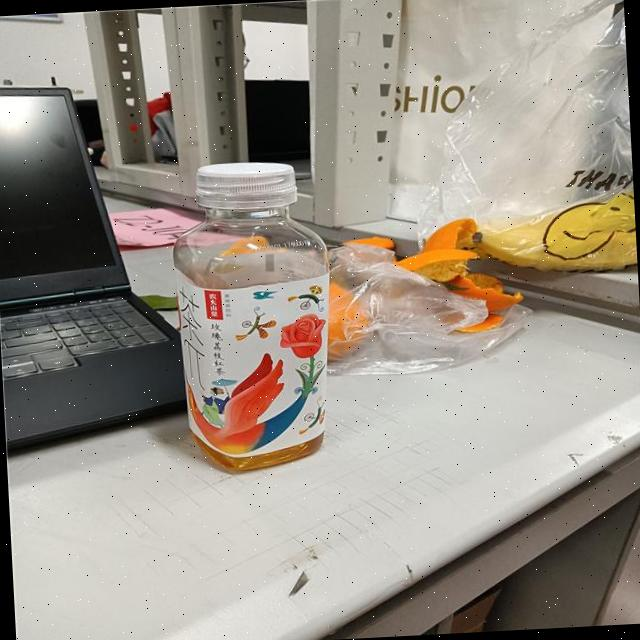orange-peel: (173, 229, 334, 474), (320, 213, 526, 359)
